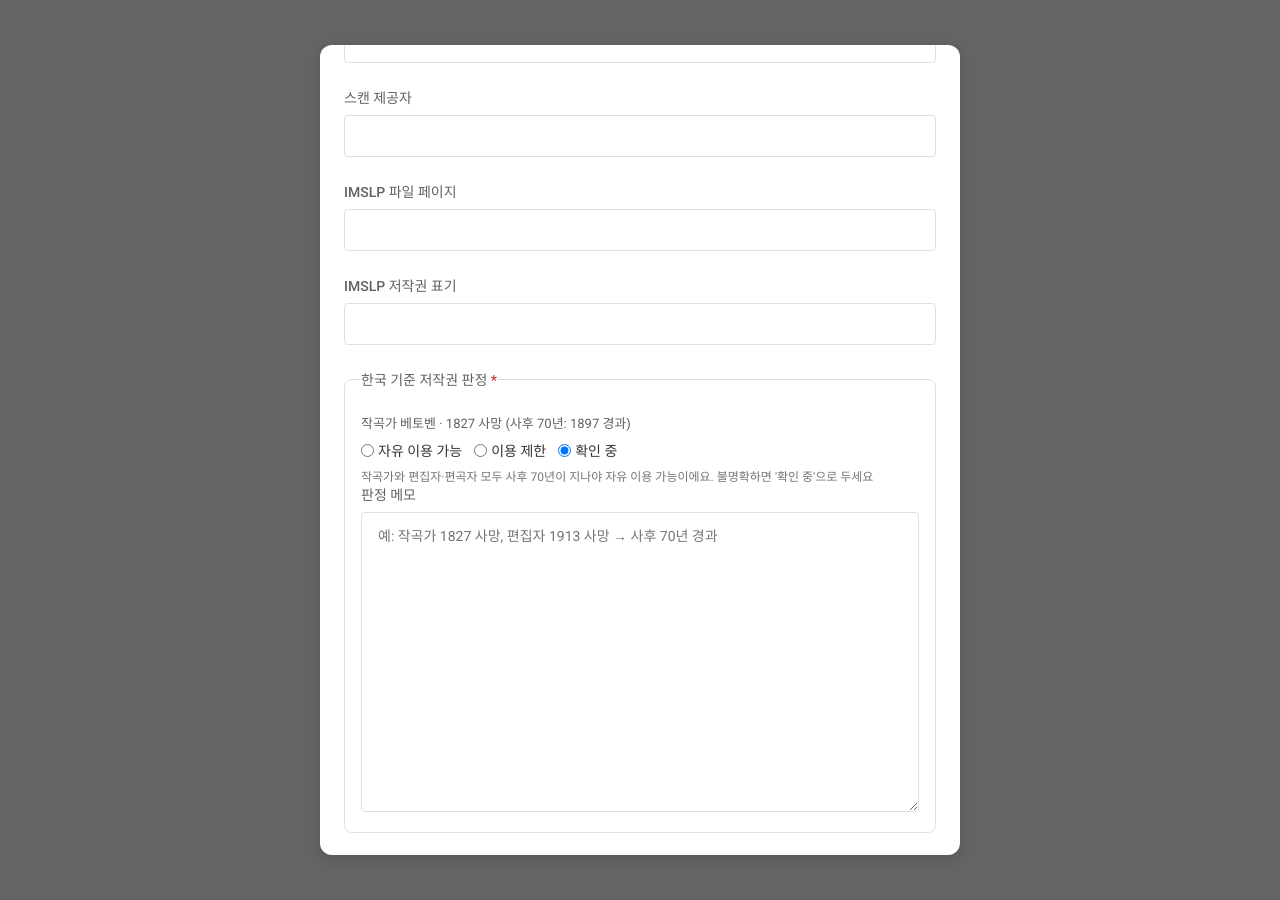
Scenario: EditionFormModal — 검증·저장 › RESTRICTED 도 메모 필수
(page scrolled)
Click the radio button labelled "이용 제한" at (481, 450), box [474,444,487,456]
(page scrolled)
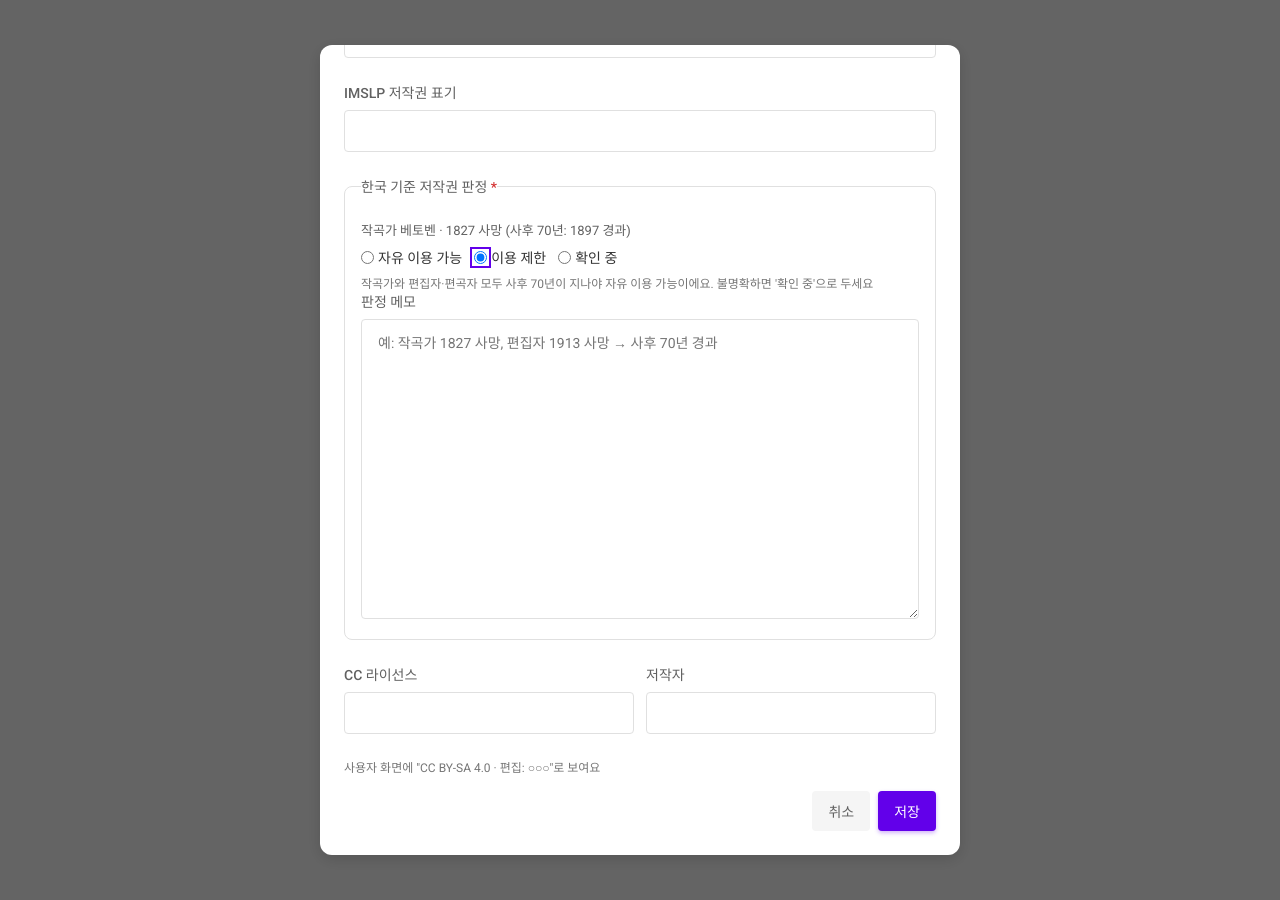
Click the button "저장" at (907, 810), box [878,790,936,830]
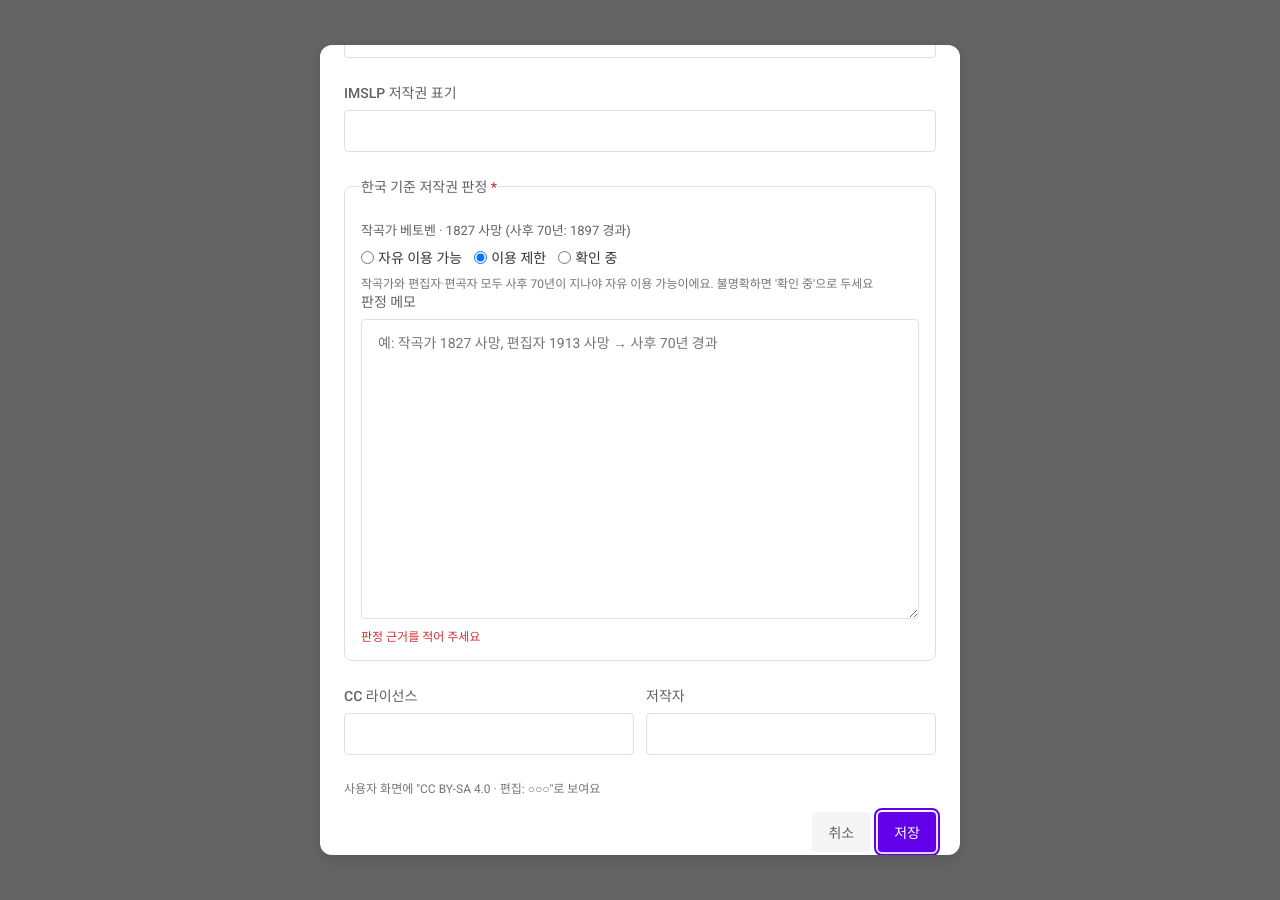
Expected: the dialog shows "판정 근거를 적어 주세요", [361,630,480,644]
